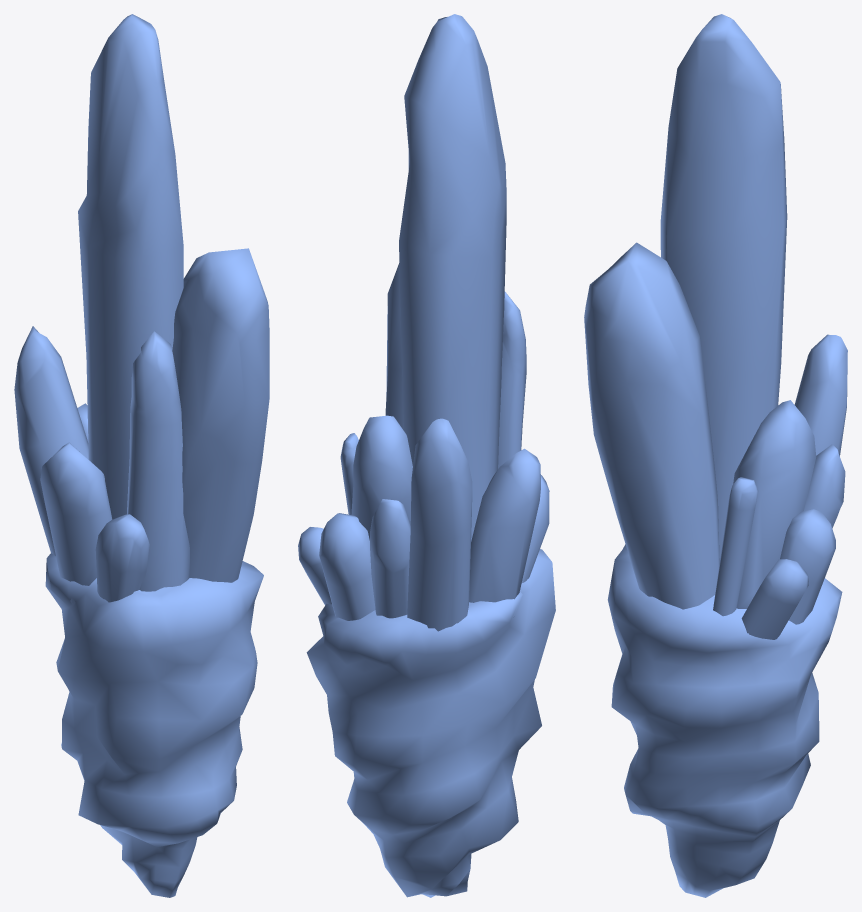
The model's file is OpacityCrystalExportSeperated.FBX.
3 views of the same model, side by side, from view 1: azimuth 30°, elevation 25°; view 2: azimuth 150°, elevation 25°; view 3: azimuth 270°, elevation 25° (orthographic). The views are drawn at different scales.
Visible parts, largest first — view 1: Object012, Object002, Object001, Object004, Object007, Object005, Object003; view 2: Object012, Object002, Object007, Object005, Object006, Object009, Object008, Object004, Object001, Object010, Object003, Object011; view 3: Object012, Object002, Object001, Object006, Object007, Object011, Object009, Object010, Object008.
Boxes of the visible parts, x1=… form: Object012: x1=45, y1=553, x2=263, y2=897; Object002: x1=78, y1=14, x2=183, y2=519; Object001: x1=172, y1=248, x2=269, y2=582; Object004: x1=127, y1=331, x2=189, y2=591; Object007: x1=14, y1=326, x2=88, y2=555; Object005: x1=40, y1=442, x2=112, y2=605; Object003: x1=95, y1=514, x2=149, y2=602; Object012: x1=306, y1=549, x2=555, y2=897; Object002: x1=399, y1=14, x2=506, y2=541; Object007: x1=407, y1=418, x2=472, y2=631; Object005: x1=469, y1=448, x2=540, y2=602; Object006: x1=351, y1=415, x2=412, y2=540; Object009: x1=319, y1=513, x2=375, y2=620; Object008: x1=370, y1=499, x2=410, y2=618; Object004: x1=498, y1=291, x2=526, y2=468; Object001: x1=385, y1=263, x2=403, y2=430; Object010: x1=298, y1=527, x2=331, y2=605; Object003: x1=521, y1=475, x2=549, y2=582; Object011: x1=340, y1=433, x2=358, y2=514; Object012: x1=607, y1=544, x2=842, y2=897; Object002: x1=660, y1=14, x2=787, y2=562; Object001: x1=584, y1=242, x2=719, y2=609; Object006: x1=733, y1=400, x2=816, y2=608; Object007: x1=794, y1=334, x2=847, y2=456; Object011: x1=713, y1=477, x2=758, y2=616; Object009: x1=780, y1=509, x2=835, y2=624; Object010: x1=741, y1=559, x2=808, y2=639; Object008: x1=804, y1=444, x2=845, y2=528.
Bounding box in the file's own units: 32.02 × 133 × 36.71.
